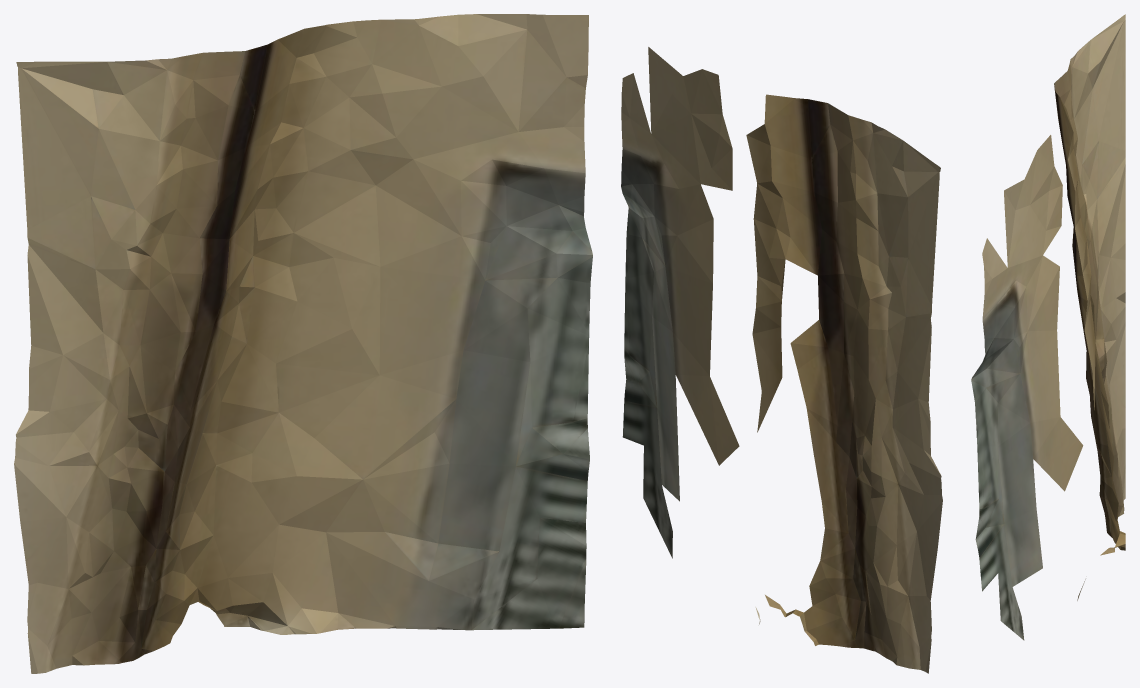
3 views of the same model, side by side, from view 1: azimuth 30°, elevation 25°; view 2: azimuth 150°, elevation 25°; view 3: azimuth 270°, elevation 25° (orthographic). The views are drawn at different scales.
Bounding box in the file's own units: 1.37 × 1.67 × 0.4897.
2 materials, 2 textured.
